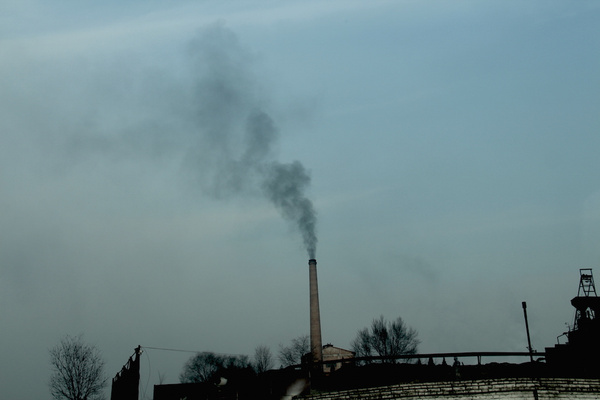dust: (218, 142, 343, 265)
